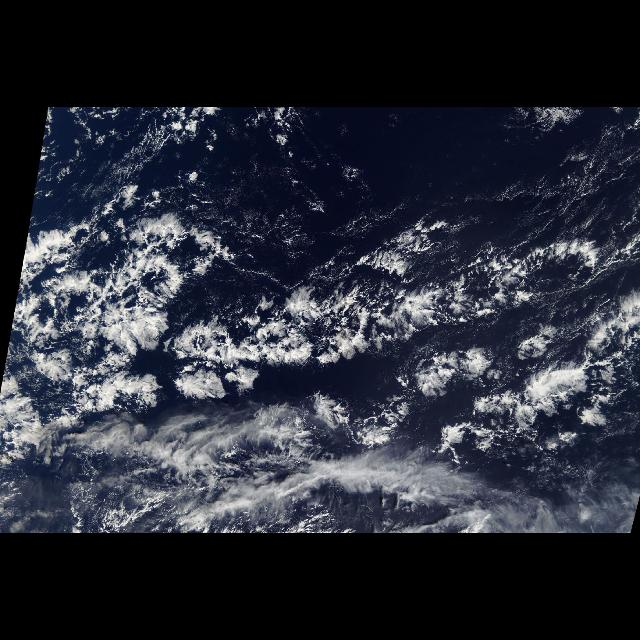Fish: (136, 205, 632, 412)
Flower: (37, 205, 639, 463)
